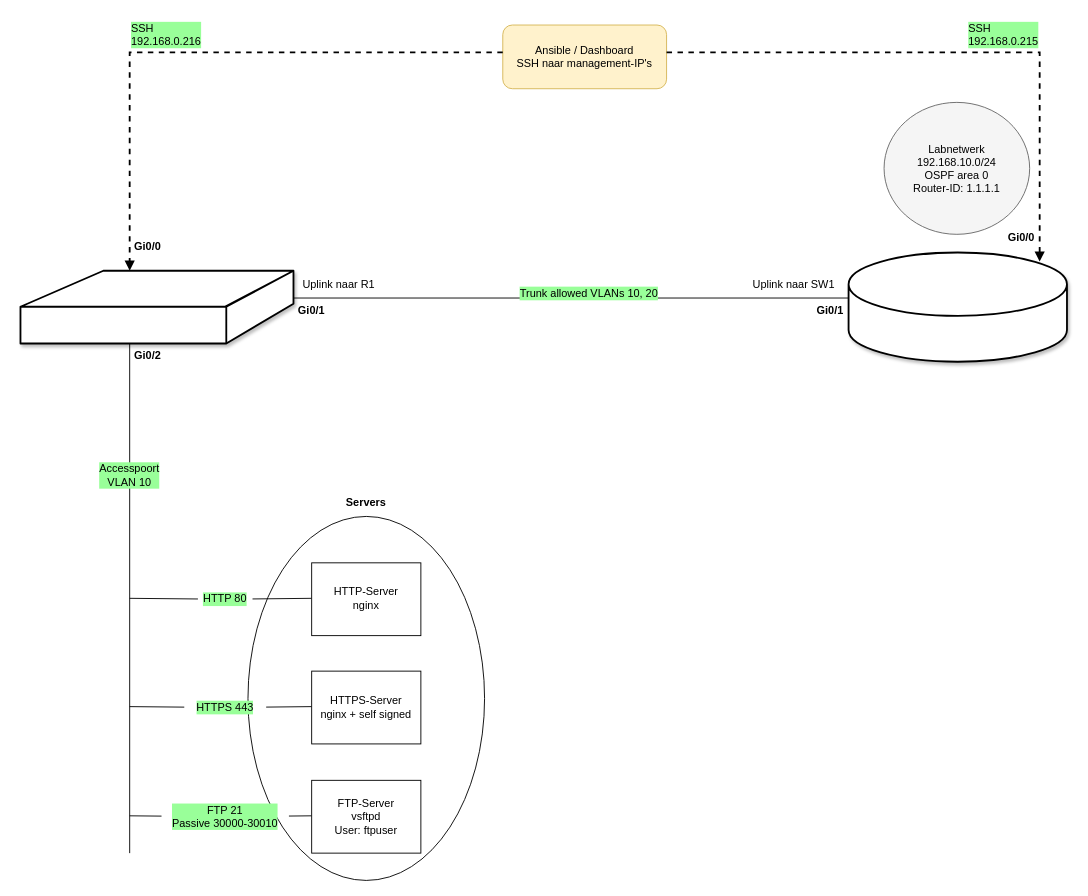
This 1088x896 diagram has some shape labels left out. The centre of each missing label's shape, as x and y in pixels:
R1: the point at 958,308
SW1: the point at 157,308
